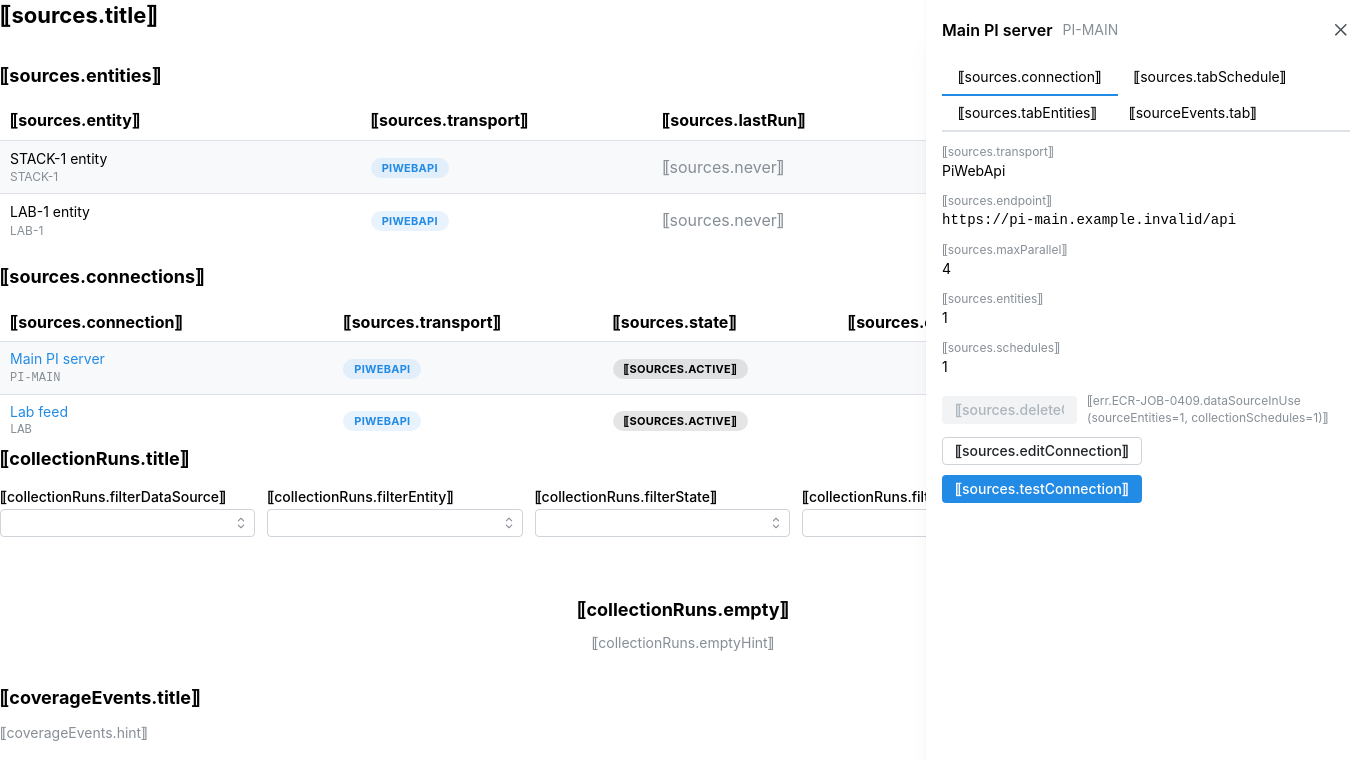
Test: Шухляда з'єднання: вкладка Schedule › у виборі сутностей — лише сутності цього з'єднання
Click the tab "⟦sources.tabSchedule⟧".
click(1210, 78)  # box [1118,60,1302,96]
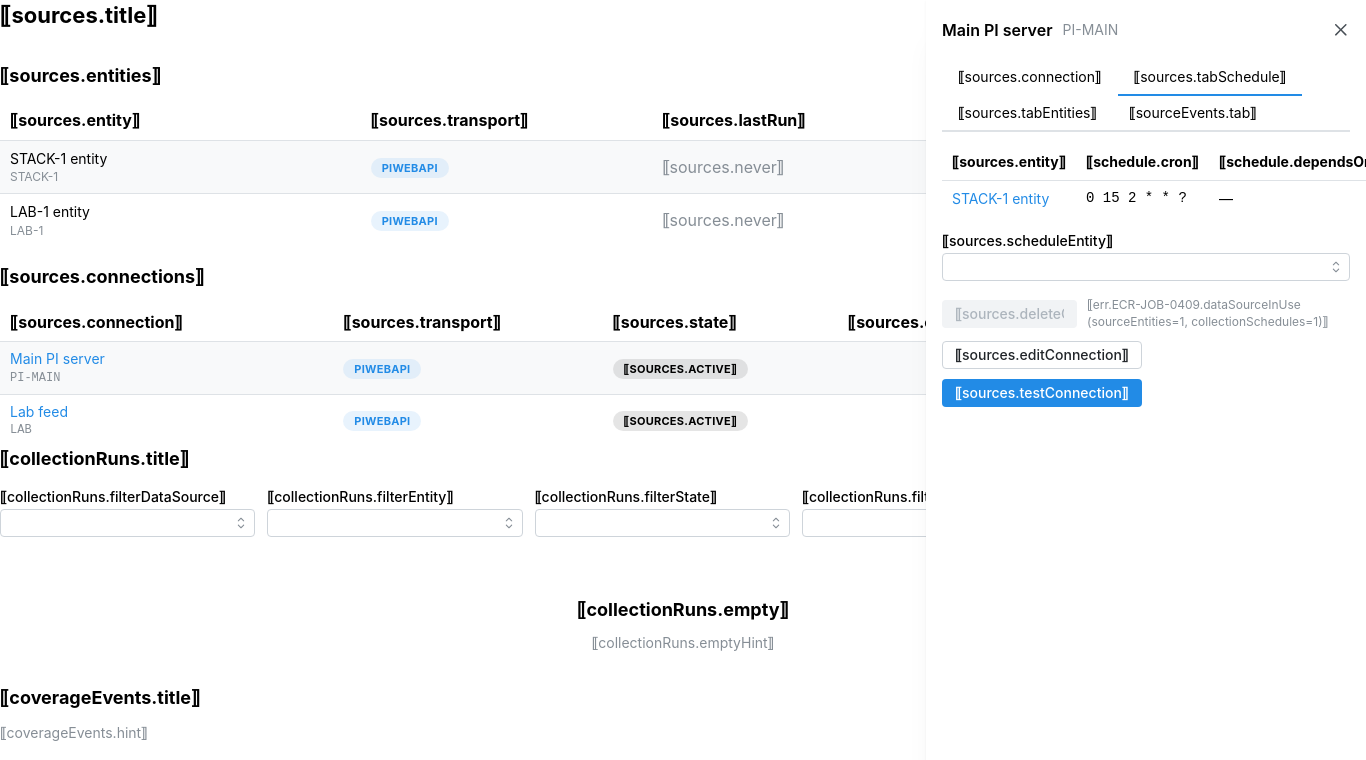
Click the field labelled "⟦sources.scheduleEntity⟧".
click(1146, 267)  # box [942,253,1350,281]
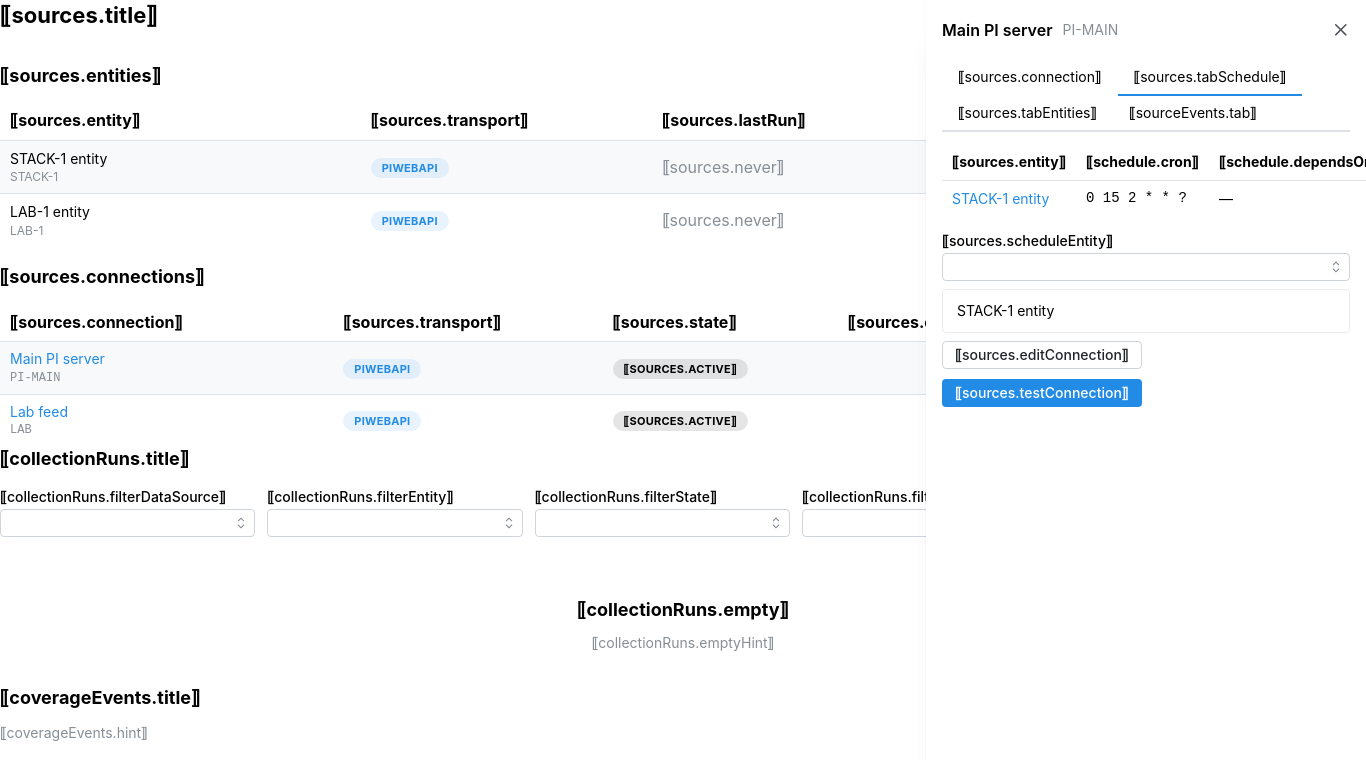
Now the options read "STACK-1 entity", in this order, box [957,302,1054,319]
